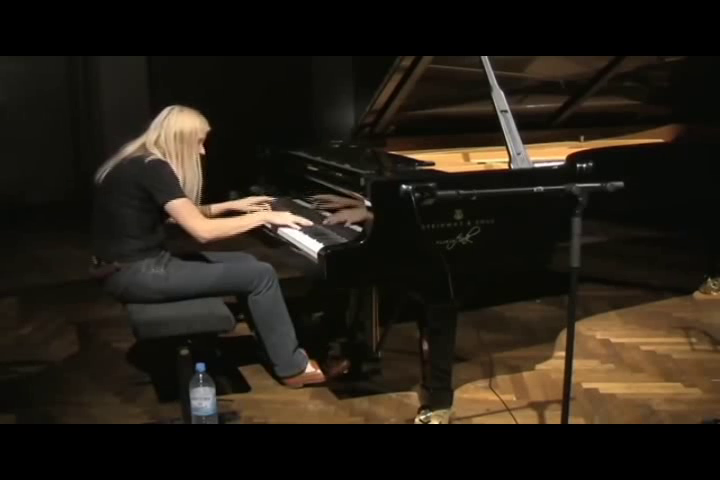keyboard: (210, 184, 356, 267)
